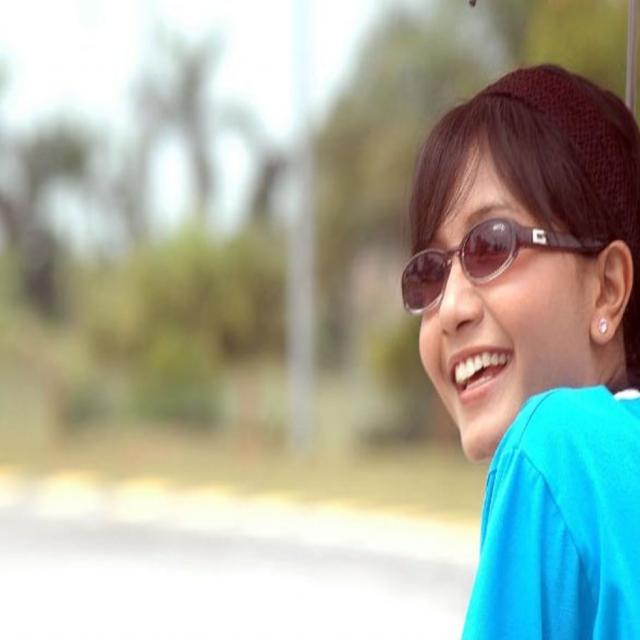Glasses: (428, 182, 638, 300)
